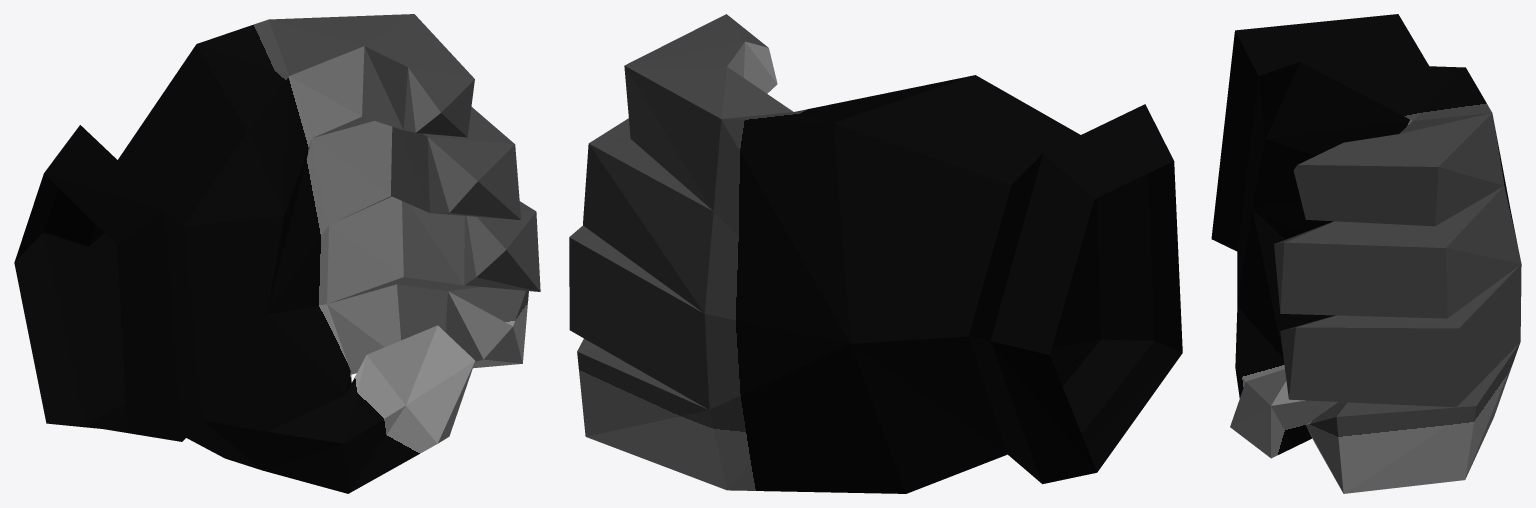
Rendered from ma_hnd2r.obj.
3 views of the same model, side by side, from view 1: azimuth 30°, elevation 25°; view 2: azimuth 150°, elevation 25°; view 3: azimuth 270°, elevation 25° (orthographic). The views are drawn at different scales.
Parts seen in each view (by area): view 1: m0_2; view 2: m0_2; view 3: m0_2.
Boxes of the visible parts, left/top/right/bottom form: m0_2: left=14, top=14, right=540, bottom=493; m0_2: left=569, top=14, right=1182, bottom=493; m0_2: left=1211, top=14, right=1521, bottom=493.
Bounding box in the file's own units: 31.81 × 25.77 × 20.22.
